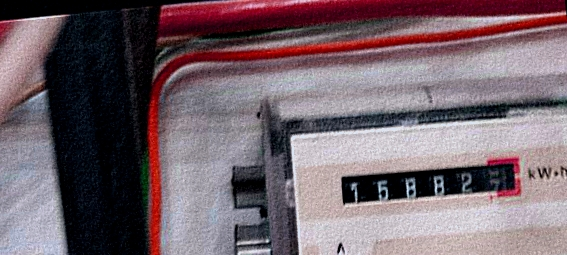1: (347, 179, 363, 202)
2: (457, 170, 475, 195)
5: (374, 176, 391, 202)
7: (488, 174, 501, 192)
8: (430, 173, 447, 198), (402, 175, 418, 200)
screen: (330, 148, 532, 223)
